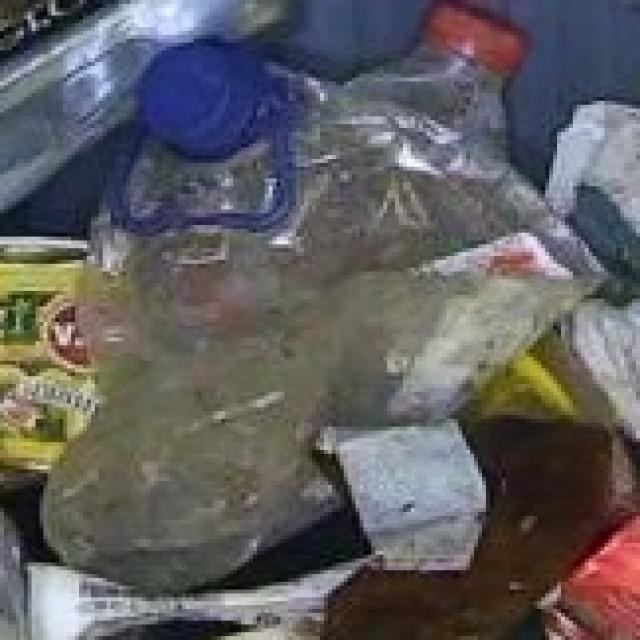plasticbottlecap: (99, 33, 302, 258), (414, 0, 543, 93)
